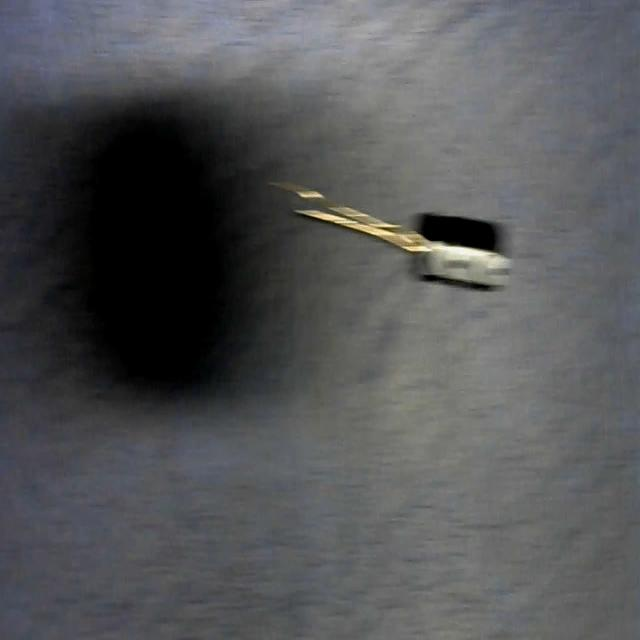capacitor: (273, 172, 512, 292)
